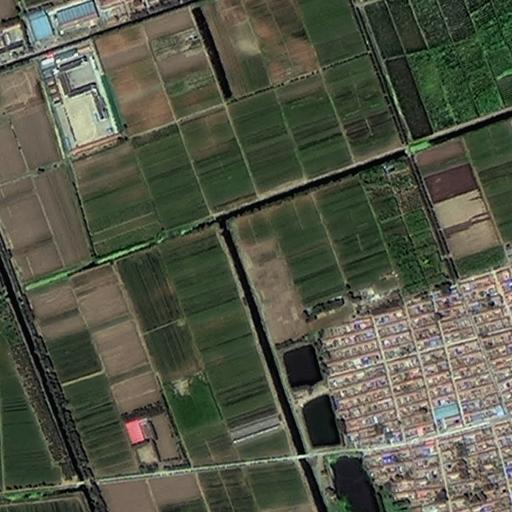school: (34, 34, 125, 157)
